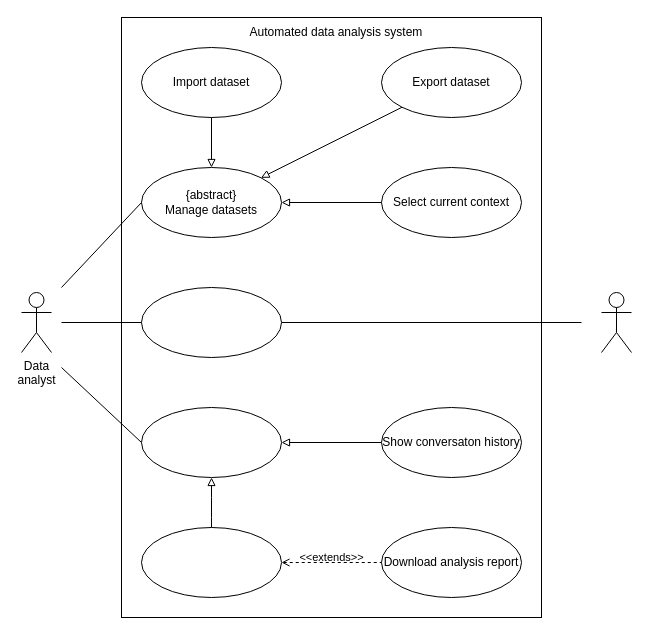
Image size: 653x635. Some labels were removed from this diagram. The centre of each missing label's shape, as x and y in pixels:
"Generate analysis" goes at (211,322).
"LLM chatbot" goes at (616,322).
"Show analysis report" goes at (211,562).
"{abstract} Access analysis history" goes at (211,442).
